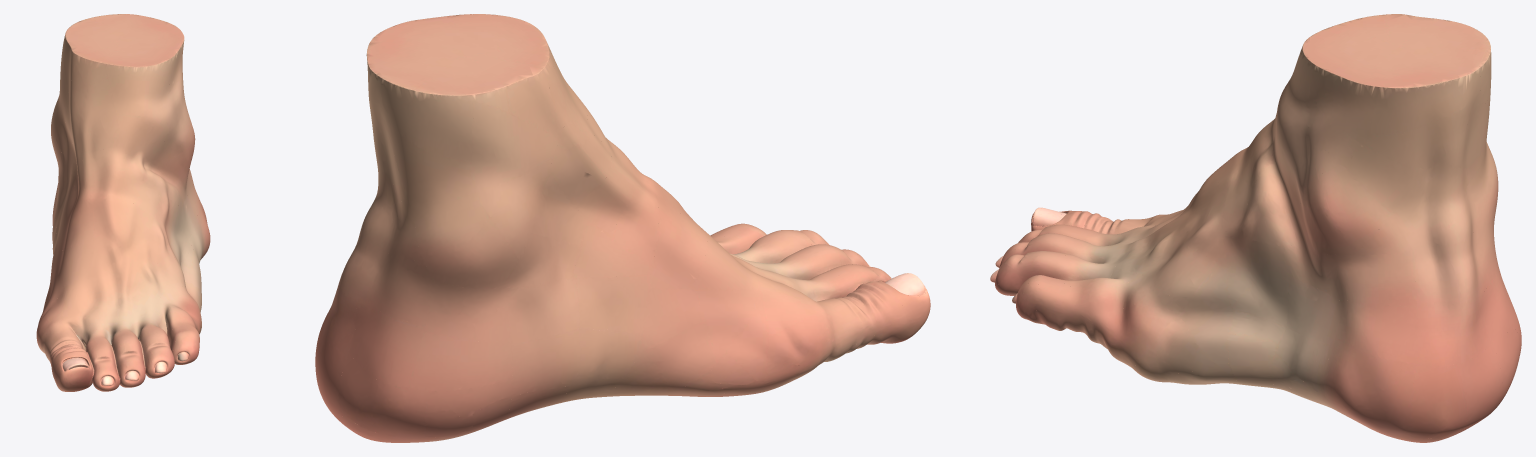
File: podo360-foot-clickable.glb
3 views of the same model, side by side, from view 1: azimuth 30°, elevation 25°; view 2: azimuth 150°, elevation 25°; view 3: azimuth 270°, elevation 25° (orthographic). The views are drawn at different scales.
Parts seen in each view (by area): view 1: Mesh_0; view 2: Mesh_0; view 3: Mesh_0.
Boxes of the visible parts, x1,y1,x2,y2 form: Mesh_0: (36, 14, 210, 391); Mesh_0: (315, 14, 930, 442); Mesh_0: (990, 14, 1521, 442).
Size of the model in its own units: 1.72 by 1.56 by 1.9.
Materials: 3 (1 with a texture image).
